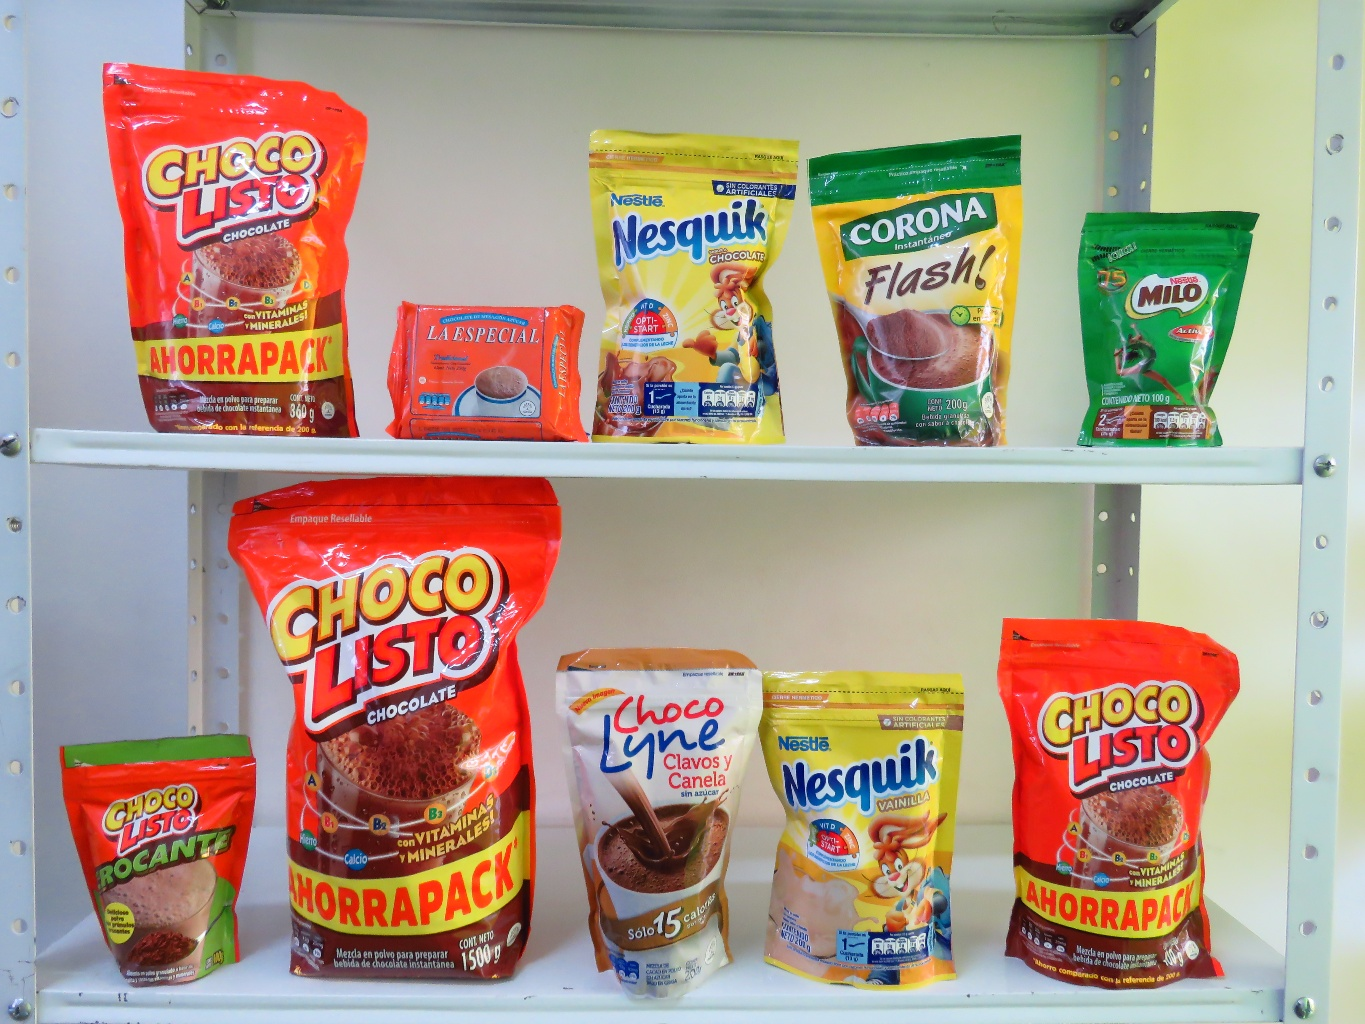COL0170102DYP10000: (52, 716, 251, 982)
COL0170103DYP1,500: (225, 475, 541, 996)
COL0170103DYP36000: (104, 59, 380, 442)
COL0170103DYP40000: (987, 605, 1236, 991)
COL0170203DYP10000: (1072, 191, 1256, 452)
COL0170303DYP20000: (575, 123, 809, 450)
COL0170306DYP20000: (765, 667, 977, 989)
